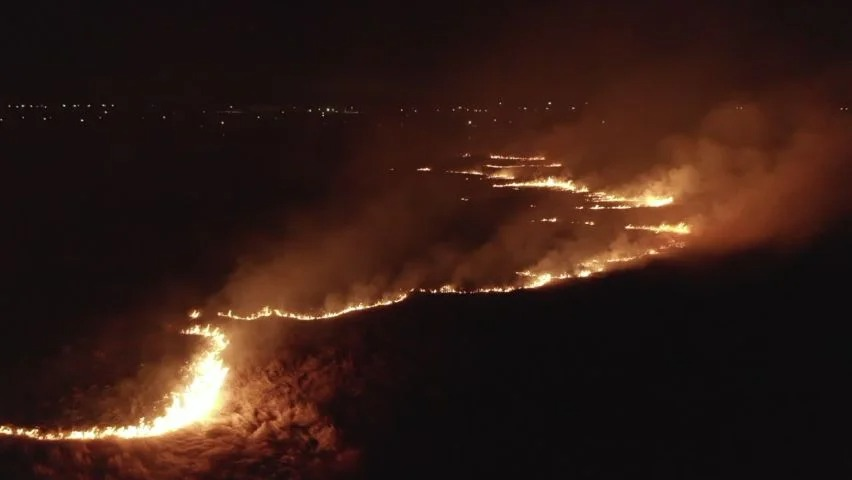forest_fire: (217, 240, 682, 320), (0, 325, 228, 440), (485, 175, 674, 209), (625, 222, 690, 237)
